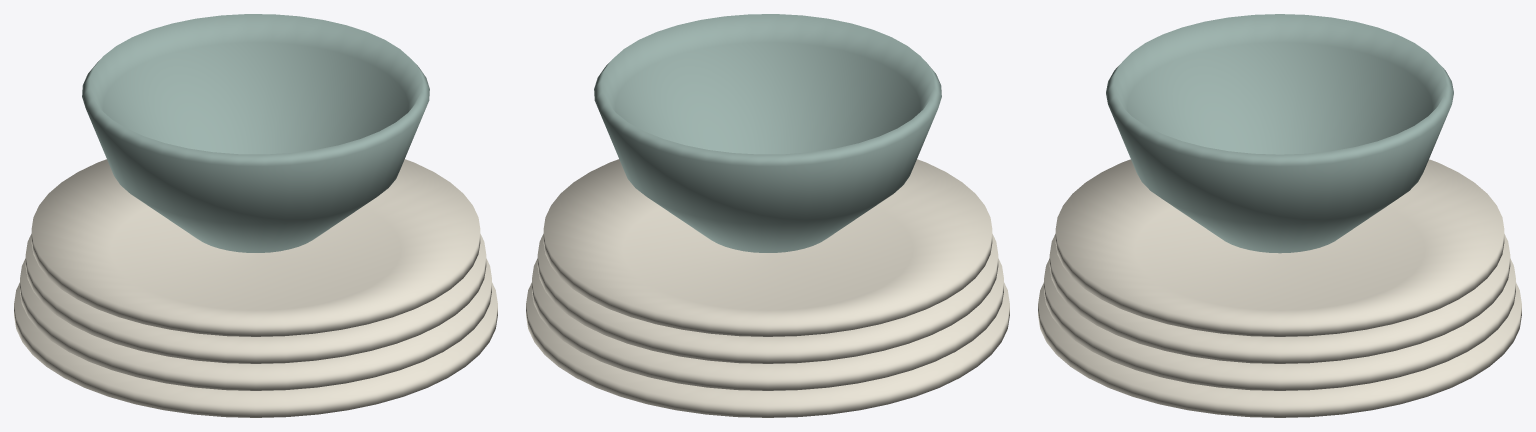
The model's file is dinnerware.glb.
3 views of the same model, side by side, from view 1: azimuth 30°, elevation 25°; view 2: azimuth 150°, elevation 25°; view 3: azimuth 270°, elevation 25° (orthographic).
Visible parts, largest first — view 1: dinnerware__body, dinnerware__accent; view 2: dinnerware__body, dinnerware__accent; view 3: dinnerware__body, dinnerware__accent.
Part boxes in pixels (x1,y1,x2,y2): dinnerware__body: [14, 159, 497, 417]; dinnerware__accent: [82, 14, 429, 252]; dinnerware__body: [526, 159, 1009, 417]; dinnerware__accent: [594, 14, 941, 252]; dinnerware__body: [1038, 159, 1521, 417]; dinnerware__accent: [1106, 14, 1453, 253].
Bounding box in the file's own units: 0.25 × 0.148 × 0.25.
